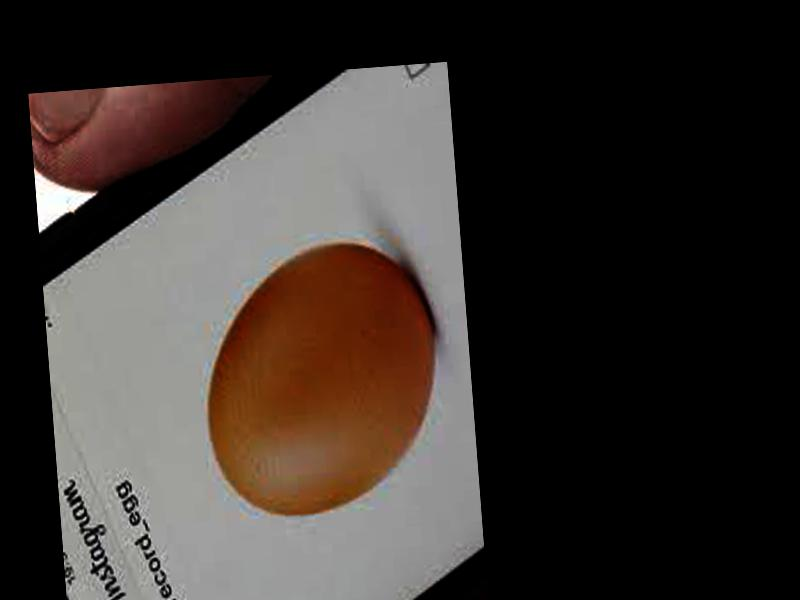Eggs: (196, 237, 445, 520)
